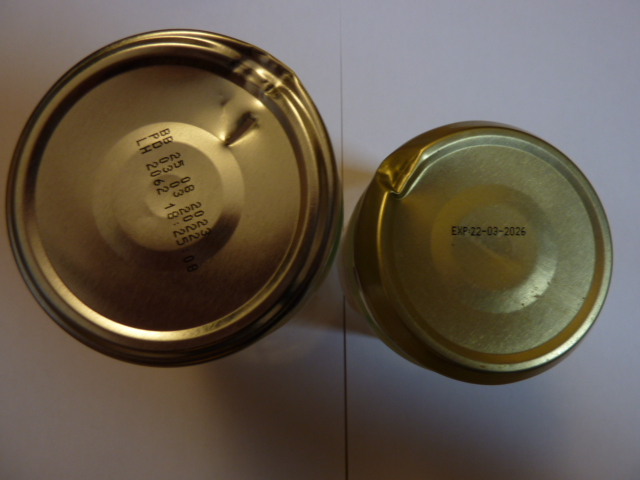damaged: (8, 30, 340, 365), (356, 115, 617, 386)
